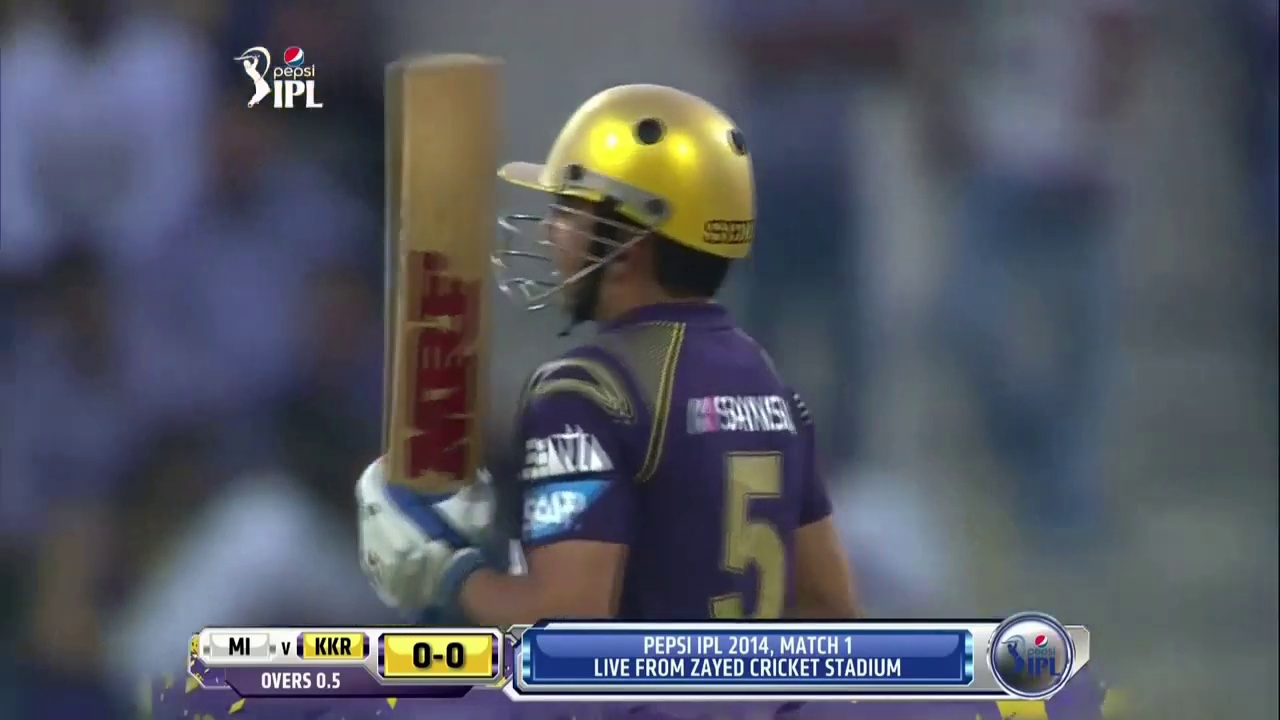bat: (390, 50, 489, 483)
